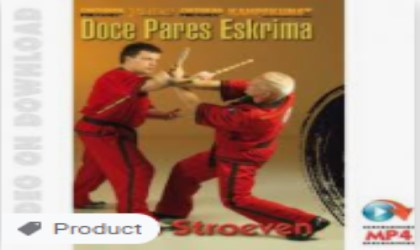baston_e: (213, 55, 244, 79), (104, 88, 130, 116)
baston_v: (245, 52, 260, 65), (94, 104, 106, 117)
